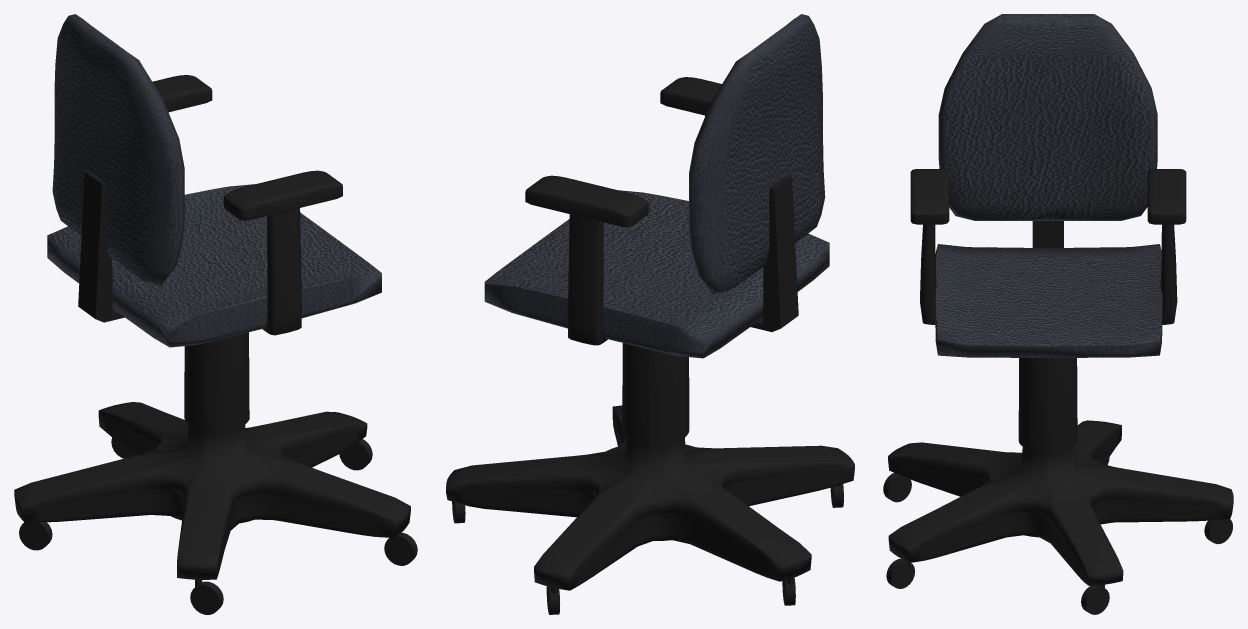
File: chair.fbx
3 renders of one model, left to right at view 1: azimuth 30°, elevation 25°; view 2: azimuth 150°, elevation 25°; view 3: azimuth 270°, elevation 25°, orthographic. The views are drawn at different scales.
Visible parts, largest first — view 1: chair1; view 2: chair1; view 3: chair1.
Part boxes in pixels (x1,y1,x2,y2): chair1: [14, 14, 417, 614]; chair1: [446, 14, 854, 614]; chair1: [883, 14, 1233, 614].
Bounding box in the file's own units: 6.59 × 9.47 × 6.32.
2 materials, 1 textured.
